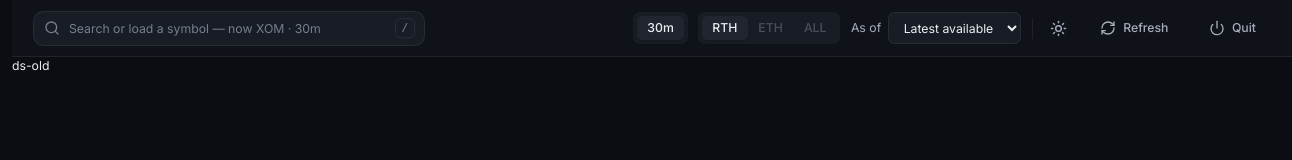
Test: Refresh button › re-fetches the symbol on screen and selects the new copy of the data
The image size is (1292, 160).
Click the button "Refresh" at coordinates (1134, 28), box left=1085, top=12, right=1184, bottom=44
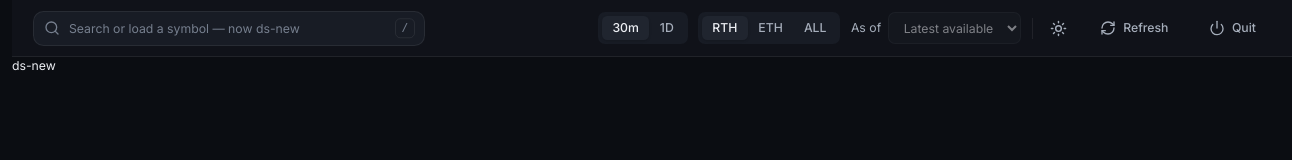
Check: the text with test id "selected" reads "ds-new", box left=12, top=58, right=56, bottom=73
